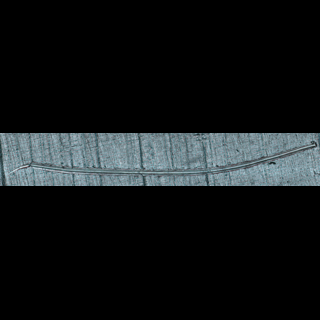d: (5, 139, 317, 178)
